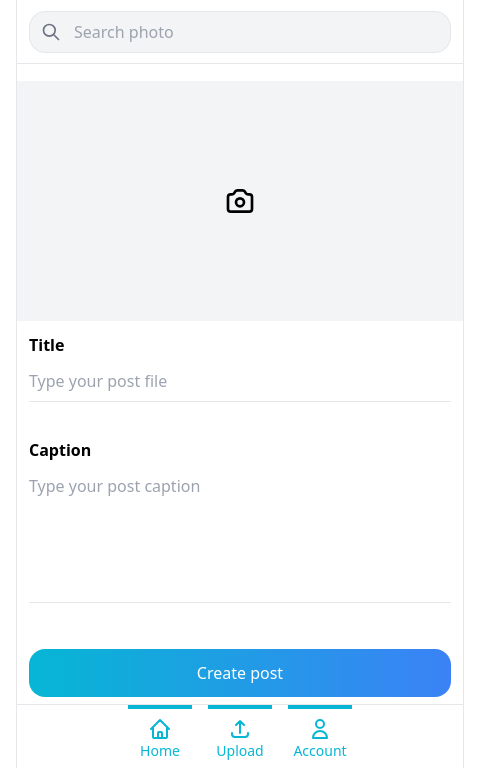
Scenario: Upload Testing › Error message upon caption input.
Type "w" into the text box with test id "input-caption" at point(240, 534), box x1=29 y1=466 x2=451 y2=603
Then press Backspace
Press Tab
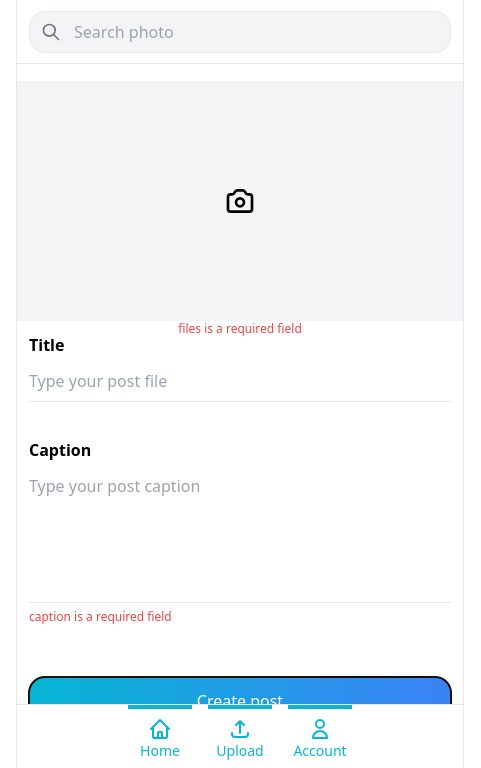
Expected: the text "caption is a required field" is shown, x1=29 y1=608 x2=172 y2=625
